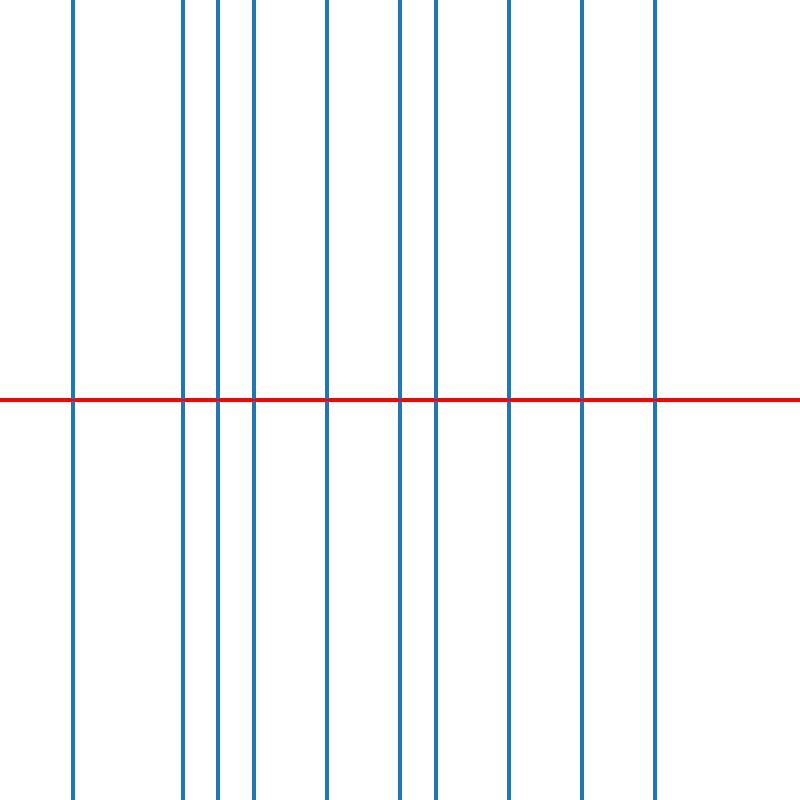root: (432, 396, 440, 404), (650, 396, 658, 404), (250, 396, 258, 404), (323, 396, 330, 404), (396, 396, 403, 404), (69, 396, 76, 404), (214, 396, 221, 404), (505, 396, 512, 404), (178, 396, 185, 404), (578, 396, 585, 404)
